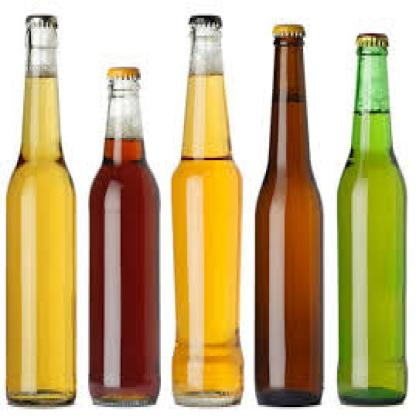trash: (172, 16, 242, 405), (6, 16, 75, 404), (338, 34, 406, 404), (255, 25, 321, 405), (90, 67, 159, 405)
